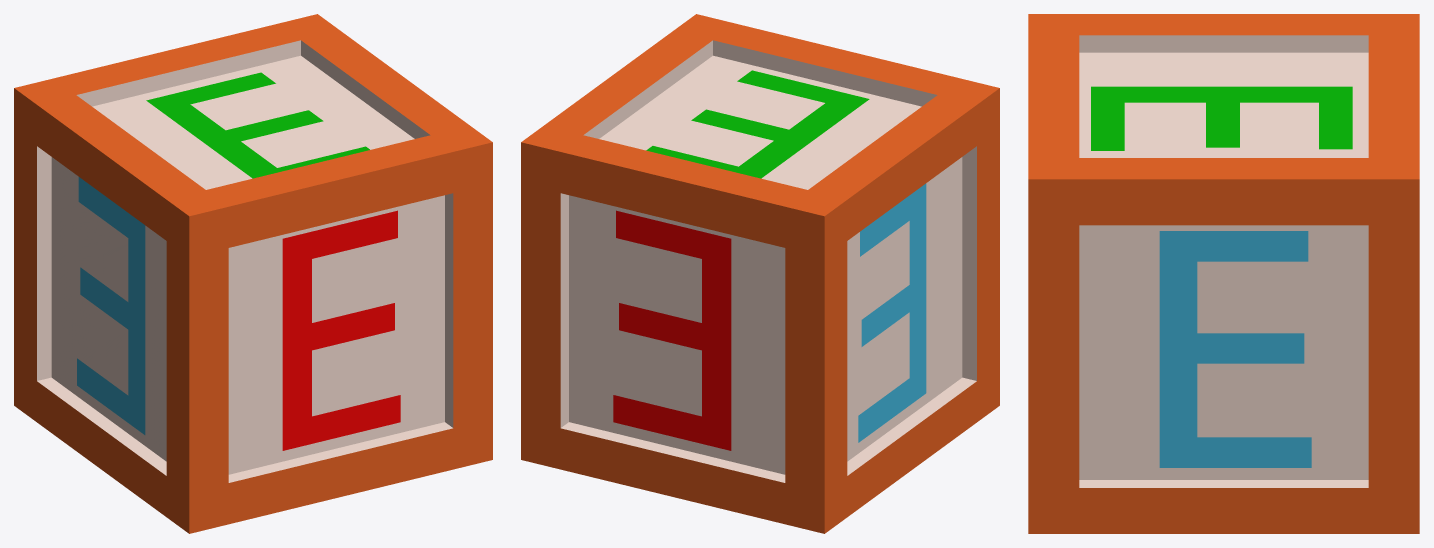
File: Prop_KidsCube_E.fbx
3 renders of one model, left to right at view 1: azimuth 30°, elevation 25°; view 2: azimuth 150°, elevation 25°; view 3: azimuth 270°, elevation 25°, orthographic. The views are drawn at different scales.
Parts seen in each view (by area): view 1: Prop_KidsCube_E; view 2: Prop_KidsCube_E; view 3: Prop_KidsCube_E.
Boxes of the visible parts, x1=… form: Prop_KidsCube_E: x1=14, y1=14, x2=492, y2=533; Prop_KidsCube_E: x1=521, y1=14, x2=999, y2=533; Prop_KidsCube_E: x1=1028, y1=14, x2=1419, y2=533.
Bounding box in the file's own units: 20.93 × 20.93 × 20.93.
Materials: 1 (1 with a texture image).
